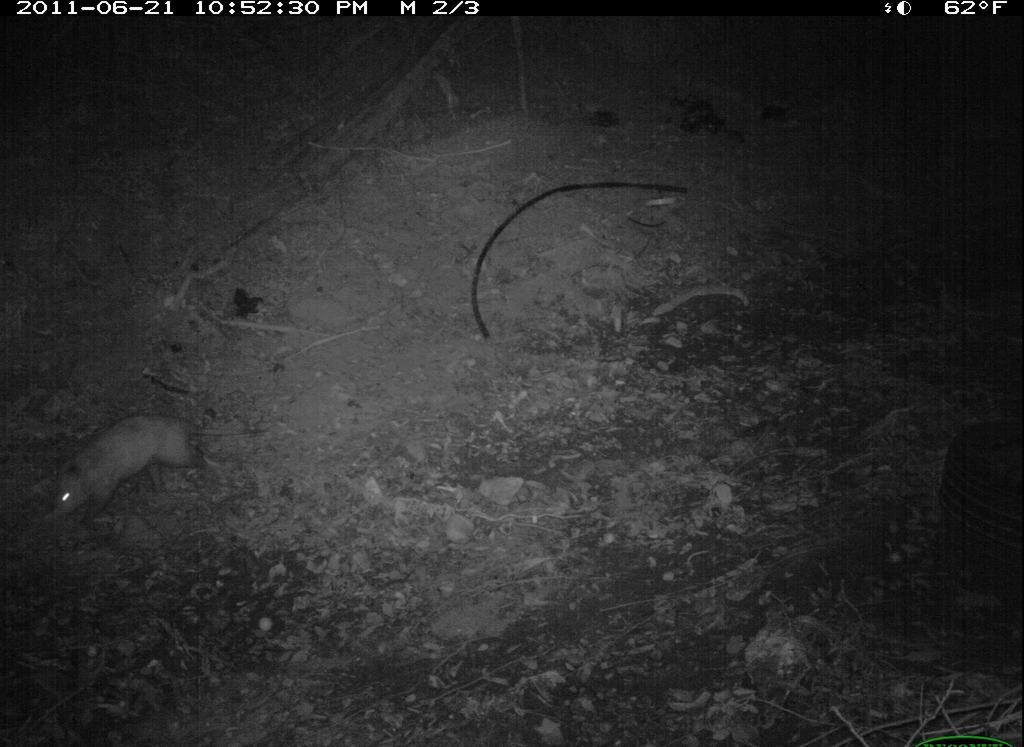opossum: (40, 400, 222, 537)
